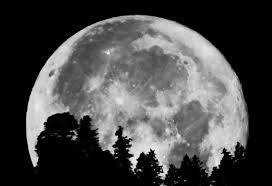moon: (27, 14, 249, 167)
